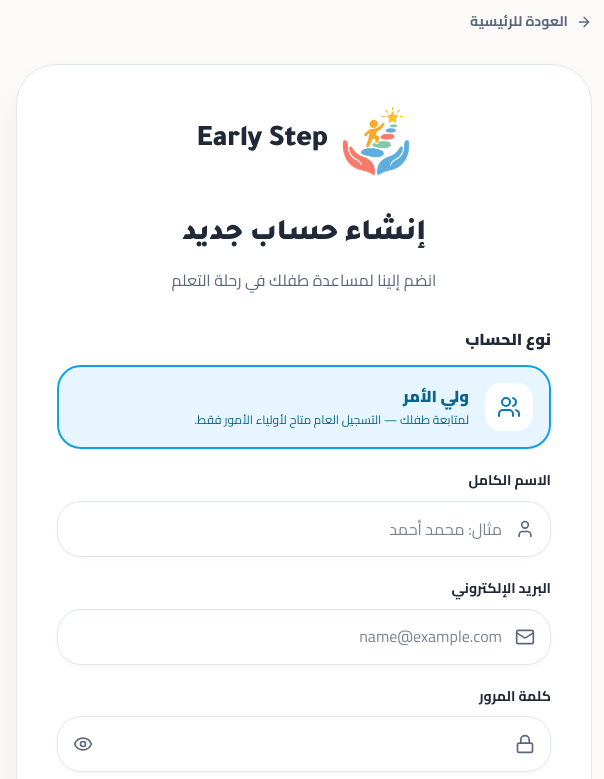
Test: RegisterPage › validates the email format
The width and height of the screenshot is (604, 779).
Type "parent@" into the field labelled "البريد الإلكتروني". click: (304, 637)
box: [57,609,551,665]
(page scrolled)
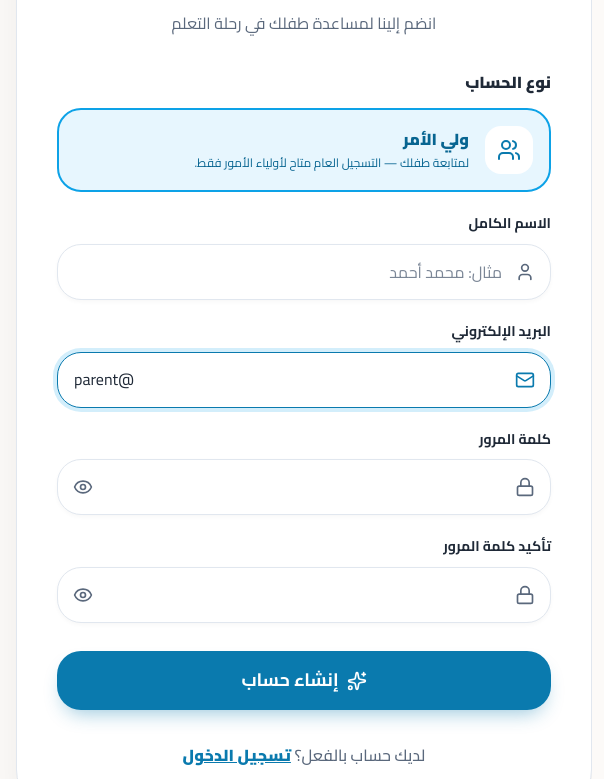
Click the button "إنشاء حساب". click: (304, 681)
box: [57,651,551,710]
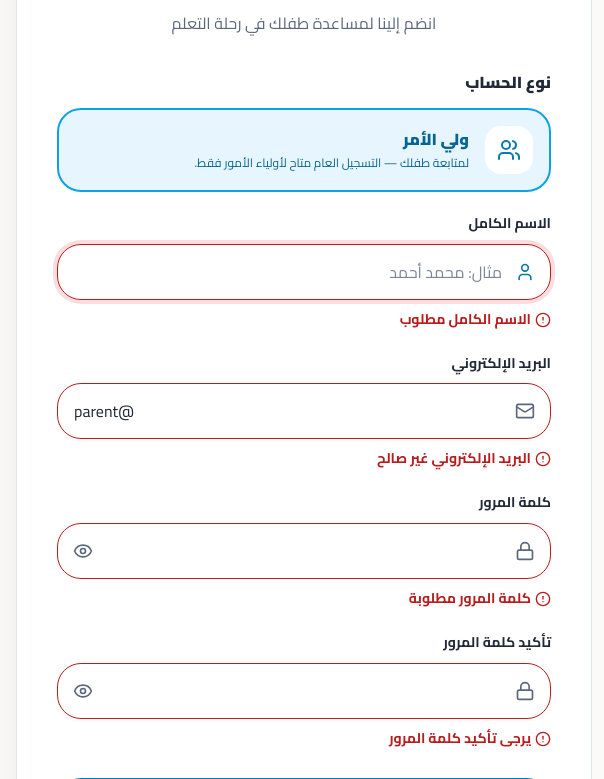
Check: the text "البريد الإلكتروني غير صالح" is shown, box [377,446,551,472]
